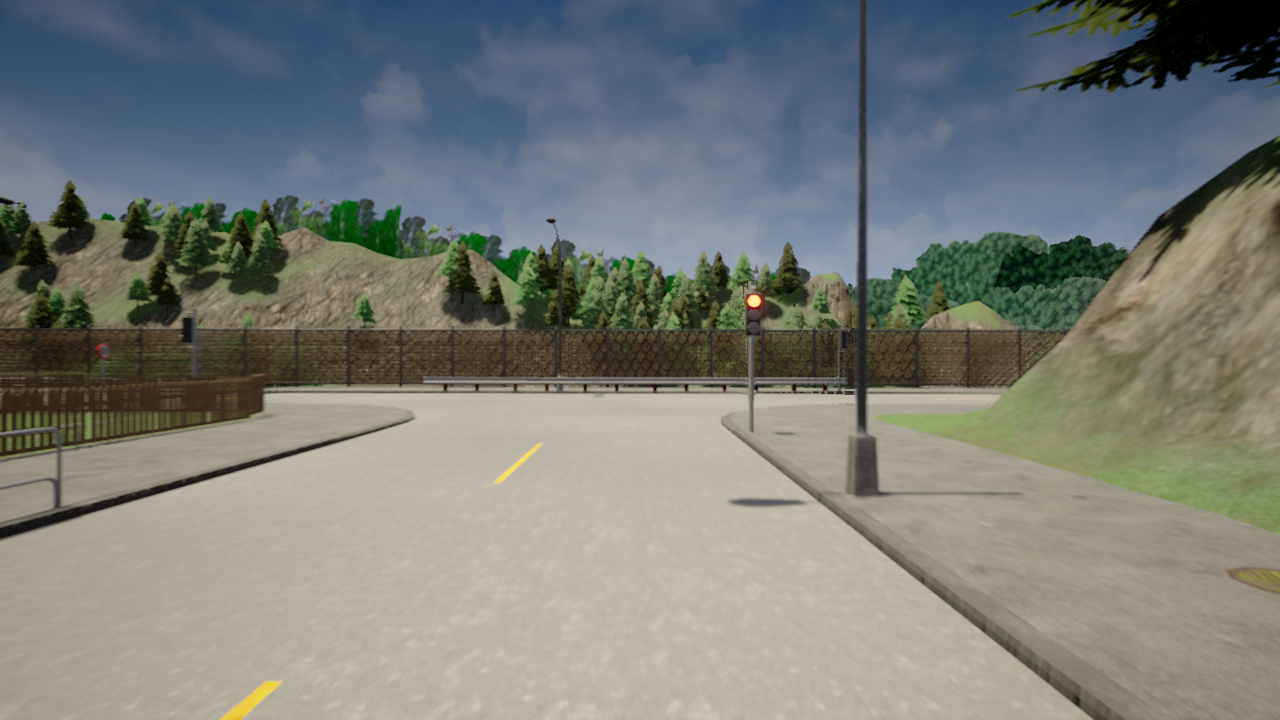red: (744, 293, 763, 336)
